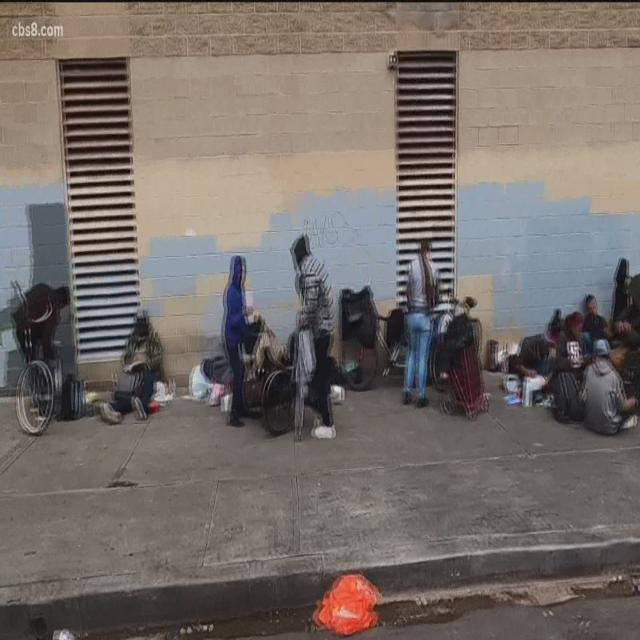human: (282, 232, 345, 448), (393, 237, 448, 404), (215, 253, 267, 424), (14, 273, 75, 413), (109, 306, 166, 423), (580, 343, 640, 439), (572, 279, 612, 360)
loitering: (286, 235, 342, 438), (13, 267, 77, 424), (216, 250, 266, 434), (99, 296, 166, 424), (403, 237, 443, 403), (586, 334, 634, 430), (566, 278, 608, 354)
